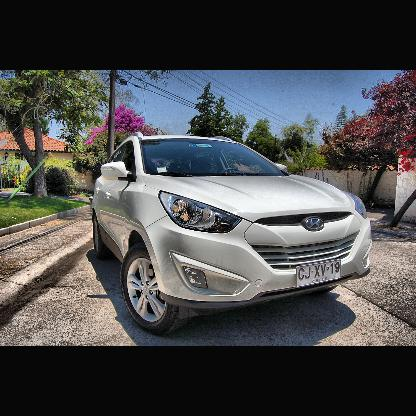Hyundai Tucson SUV 2012: (92, 132, 374, 327)
